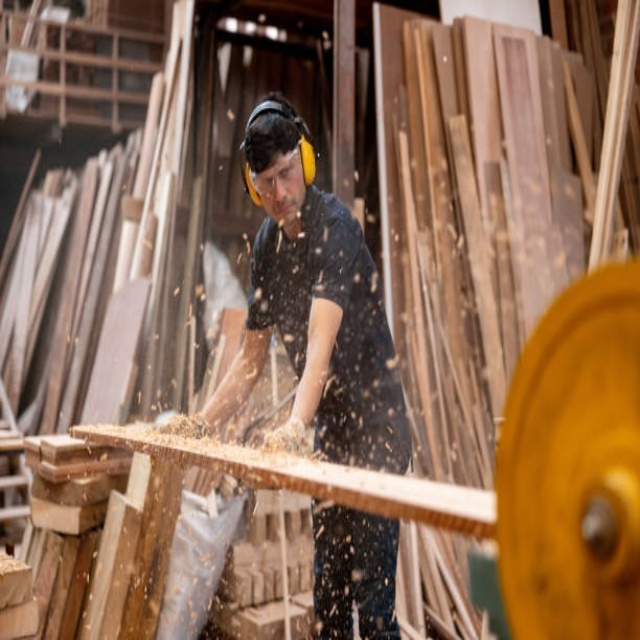Gafas: (253, 152, 298, 196)
Sin_mascara: (267, 198, 300, 227)
